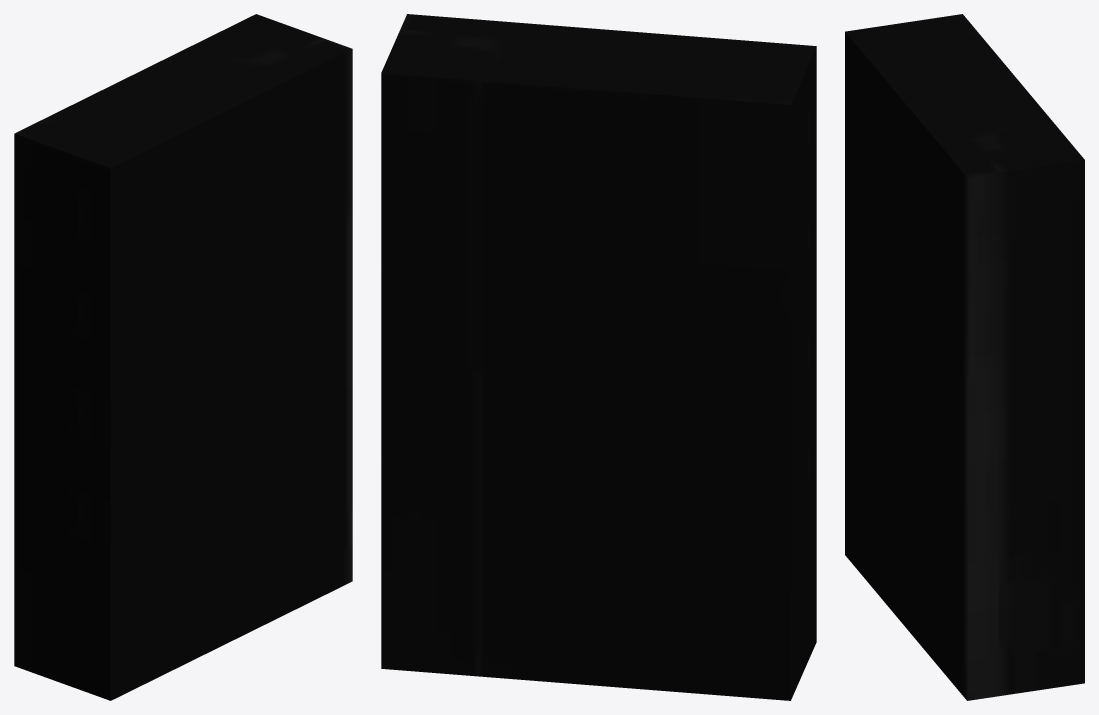
The model's file is backrest__backrest_pad_bridge.glb.
3 renders of one model, left to right at view 1: azimuth 30°, elevation 25°; view 2: azimuth 150°, elevation 25°; view 3: azimuth 270°, elevation 25°, orthographic. The views are drawn at different scales.
Visible parts, largest first — view 1: world; view 2: world; view 3: world.
Boxes of the visible parts, bbox=[...] form: world: bbox=[14, 14, 352, 700]; world: bbox=[381, 14, 816, 700]; world: bbox=[845, 14, 1084, 700].
Bounding box in the file's own units: 0.1162 × 0.1736 × 0.072.
Materials: 1 (1 with a texture image).
